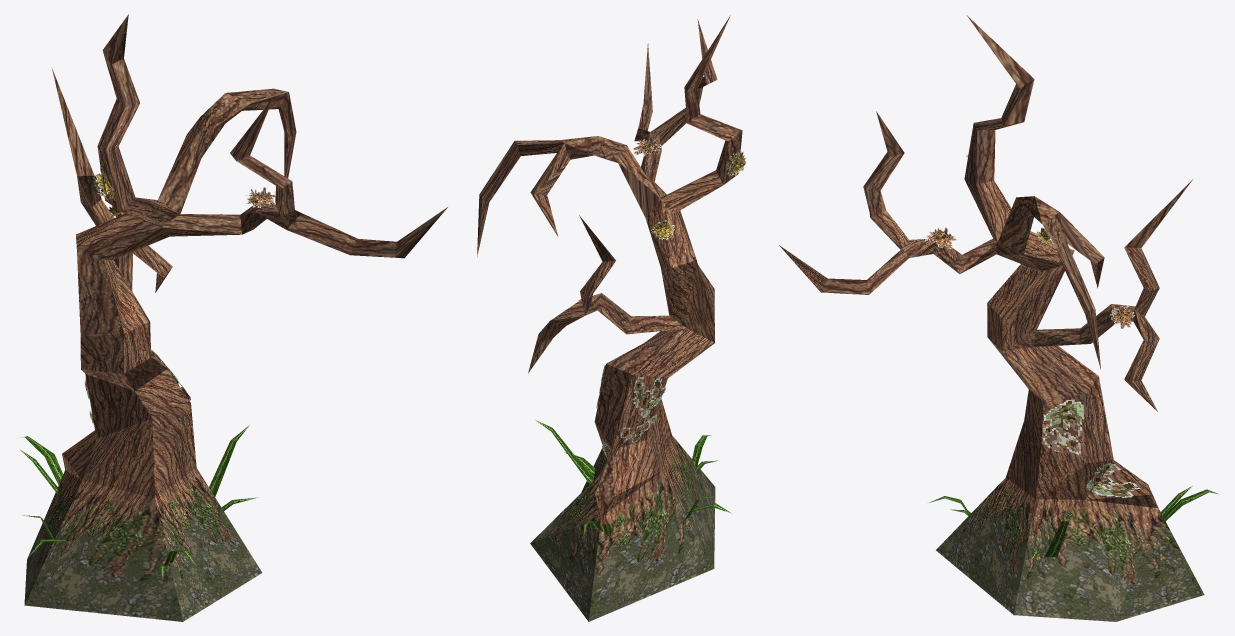
File: C1SNTRDA.obj
The picture shows the model from 3 angles, left to right: view 1: azimuth 30°, elevation 25°; view 2: azimuth 150°, elevation 25°; view 3: azimuth 270°, elevation 25°; orthographic projection. The views are drawn at different scales.
Visible parts, largest first — view 1: Node 0; view 2: Node 0; view 3: Node 0.
Part boxes in pixels (x1=…): Node 0: x1=20, y1=14, x2=447, y2=621; Node 0: x1=477, y1=15, x2=746, y2=621; Node 0: x1=779, y1=15, x2=1218, y2=621.
Bounding box in the file's own units: 2.51 × 5.43 × 3.85.
Materials: 4 (4 with a texture image).
